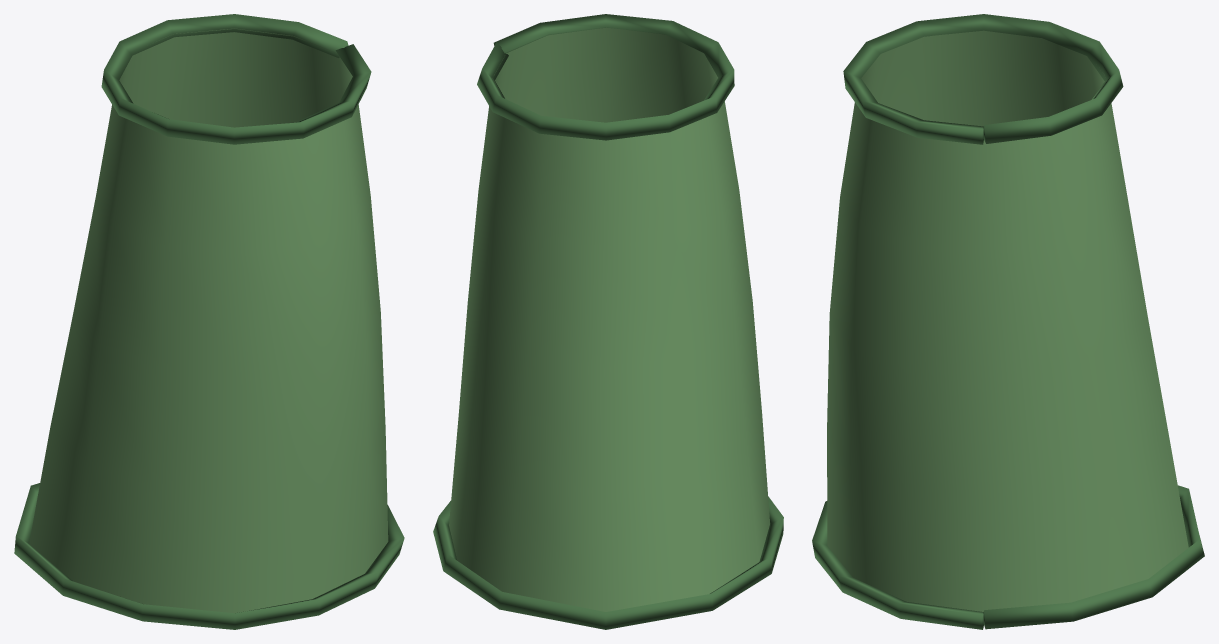
Rendered from tungsten_armor_cuisse.R.glb.
The picture shows the model from 3 angles, left to right: view 1: azimuth 30°, elevation 25°; view 2: azimuth 150°, elevation 25°; view 3: azimuth 270°, elevation 25°; orthographic projection. The views are drawn at different scales.
Visible parts, largest first — view 1: tungsten_armor_cuisse.R; view 2: tungsten_armor_cuisse.R; view 3: tungsten_armor_cuisse.R.
Part boxes in pixels (box(x1,y1,x2,y2)): tungsten_armor_cuisse.R: box(14, 14, 404, 629); tungsten_armor_cuisse.R: box(433, 14, 783, 629); tungsten_armor_cuisse.R: box(812, 14, 1204, 629).
Size of the model in its own units: 0.2685 by 0.3856 by 0.2809.
